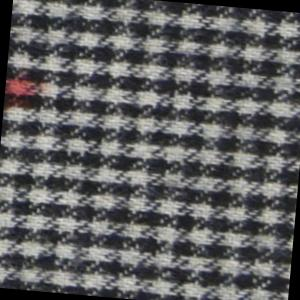Stain: (4, 62, 53, 118)
